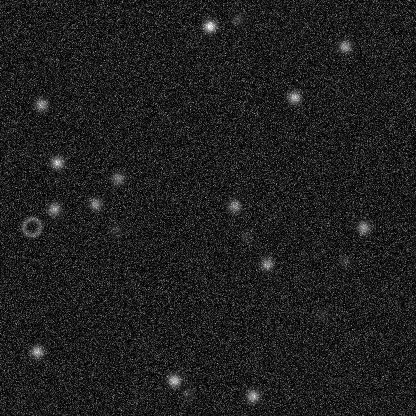Ring: (19, 214, 43, 238)
Spot: (29, 343, 45, 359), (336, 38, 352, 54), (109, 170, 125, 186), (201, 18, 217, 34), (258, 256, 274, 272), (314, 306, 330, 322), (49, 154, 65, 170), (166, 372, 182, 388), (33, 96, 49, 112), (107, 221, 123, 237), (229, 11, 245, 27), (46, 201, 62, 217), (237, 227, 253, 243), (286, 89, 302, 105), (179, 385, 195, 401), (244, 388, 260, 404), (226, 197, 242, 213), (337, 253, 353, 269), (355, 219, 371, 235), (87, 195, 103, 211)
